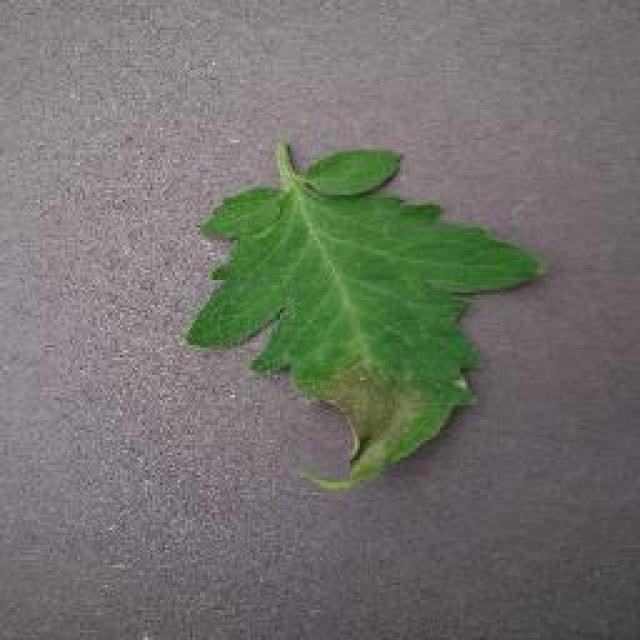Tomato Late Blight: (315, 373, 455, 492)
